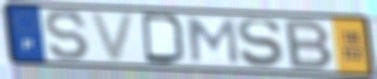B: (283, 18, 336, 71)
D: (139, 12, 189, 66)
M: (185, 16, 242, 66)
S: (43, 8, 93, 62), (235, 17, 284, 68)
V: (87, 10, 138, 63)
